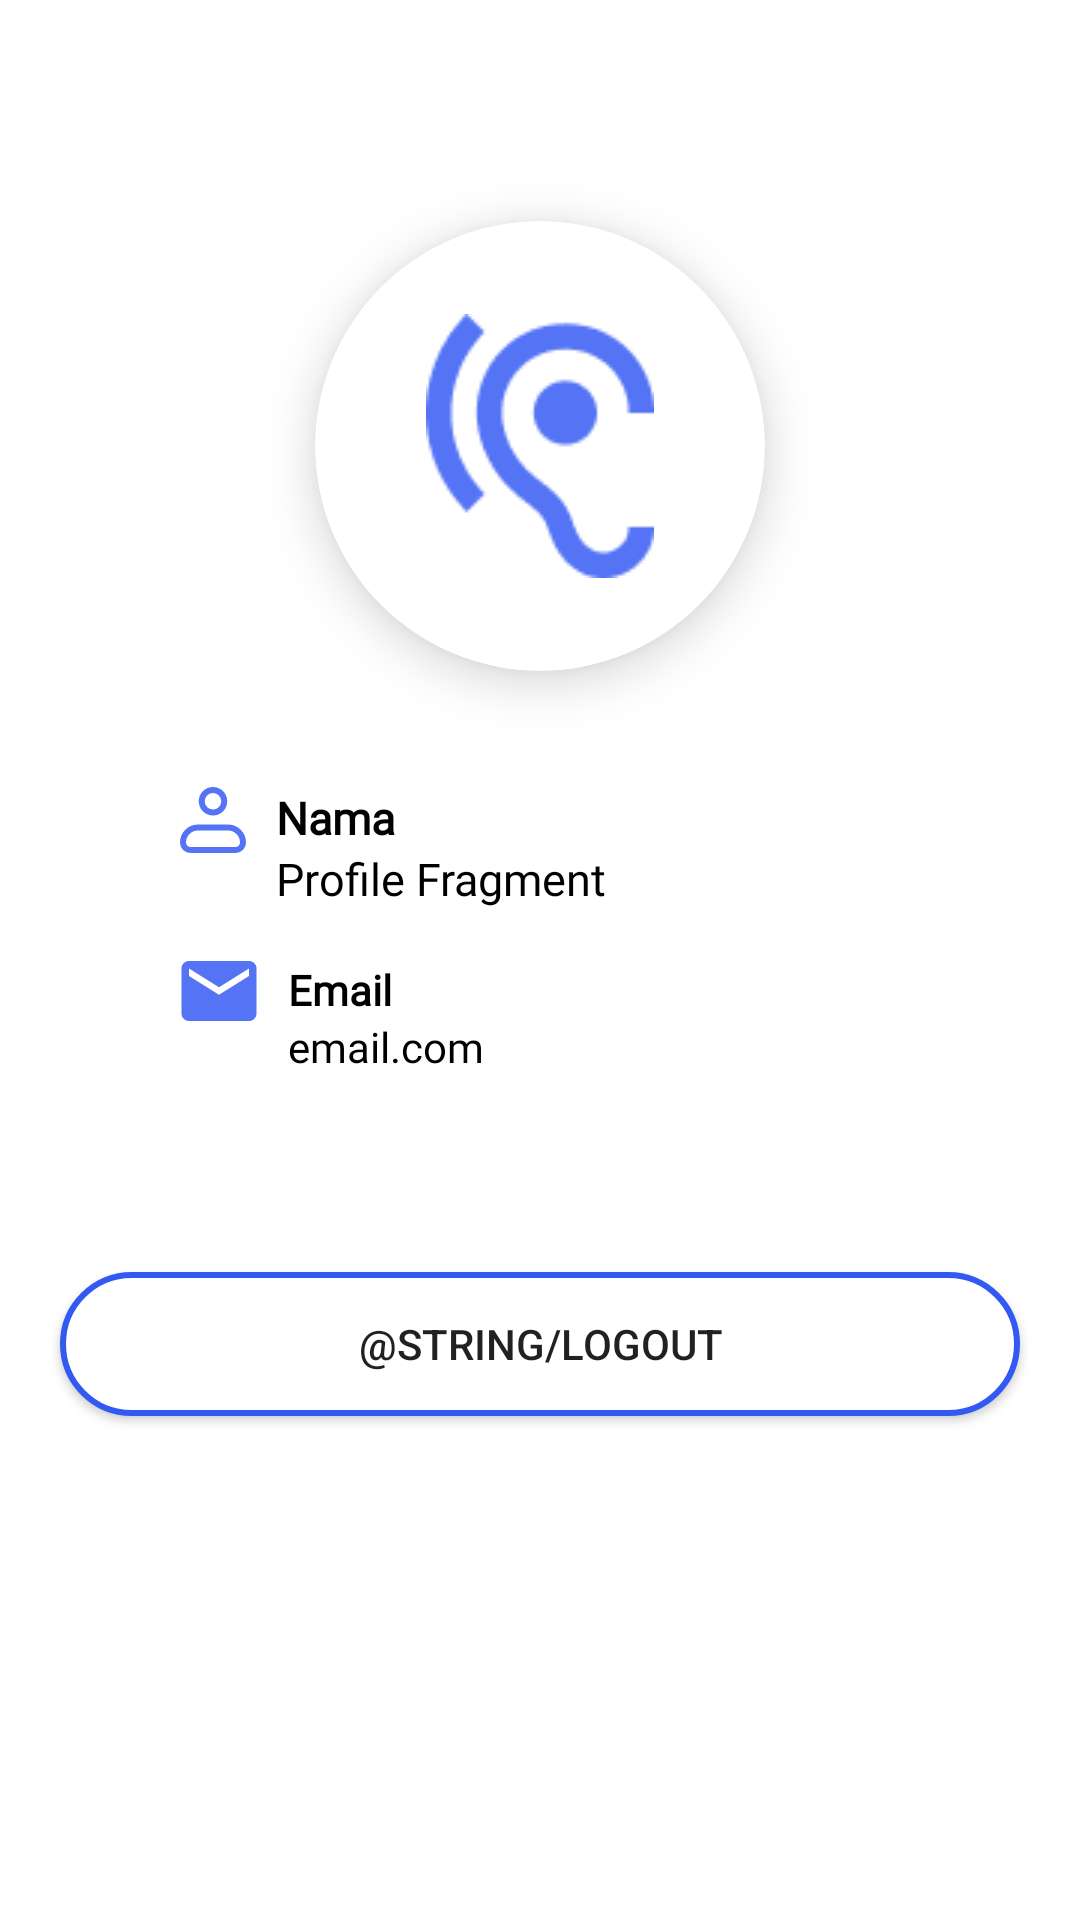

Named icons in this screenshot (1080x1920) and their bounding boxes, (x1, y1, x2, y2):
ear: (426, 314, 654, 578)
